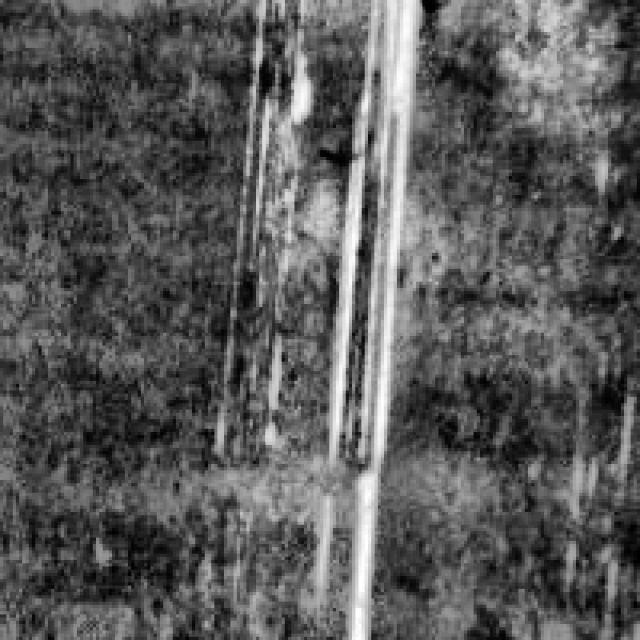Inclusion: (317, 0, 416, 634), (230, 19, 310, 189)
